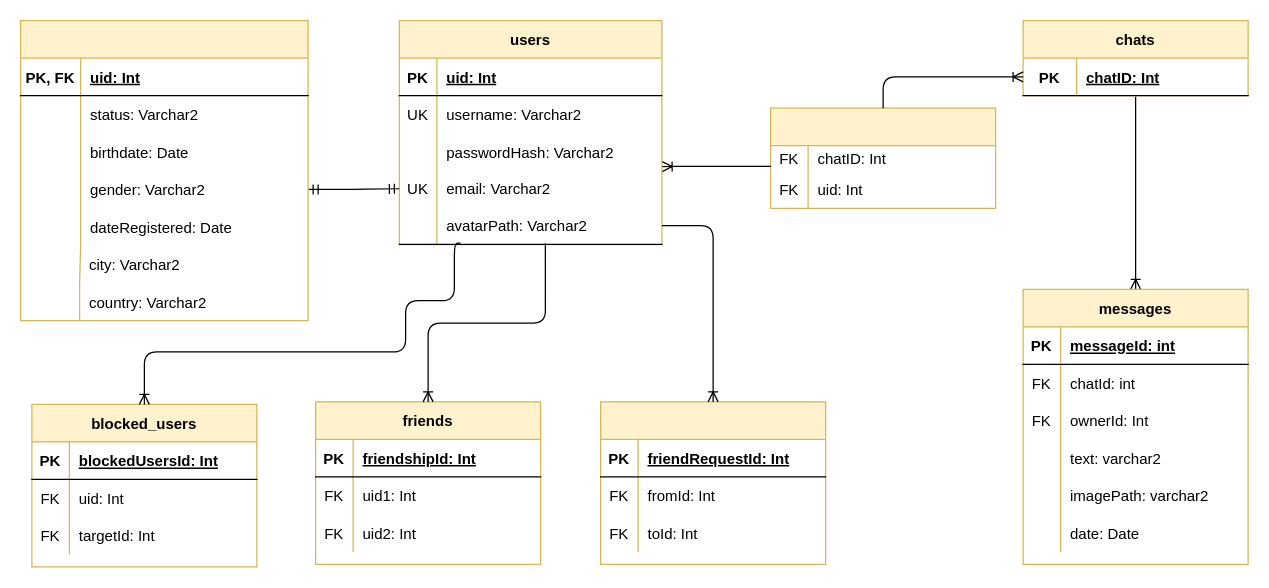
Some shapes in this 1269 by 588 pixel diagram are drawn without their labels. The box of each missing label's shape, as (x1, y1, x2, y2) in pixels:
friend_requests: (599, 401, 826, 564)
user_chats: (769, 107, 996, 208)
user_profiles: (19, 19, 308, 321)
